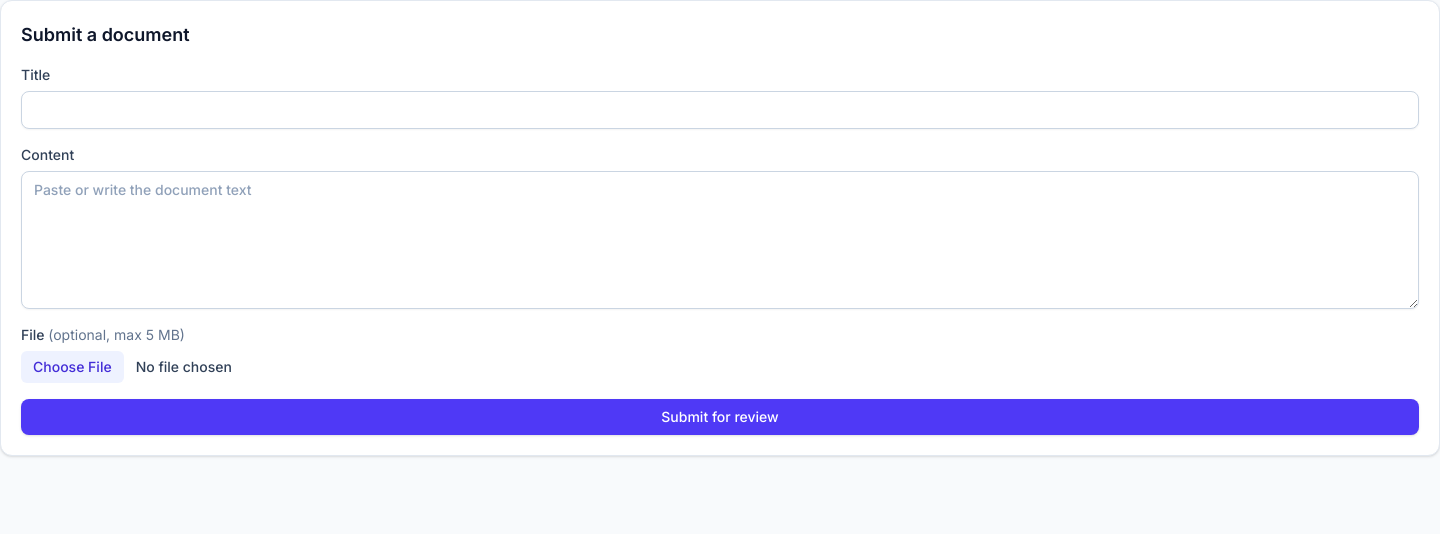
Scenario: SubmitForm › submits, clears the form and tells the page to refresh
The width and height of the screenshot is (1440, 534).
Type "Budget" into the field labelled "Title" at (720, 110), box [21, 91, 1419, 129]
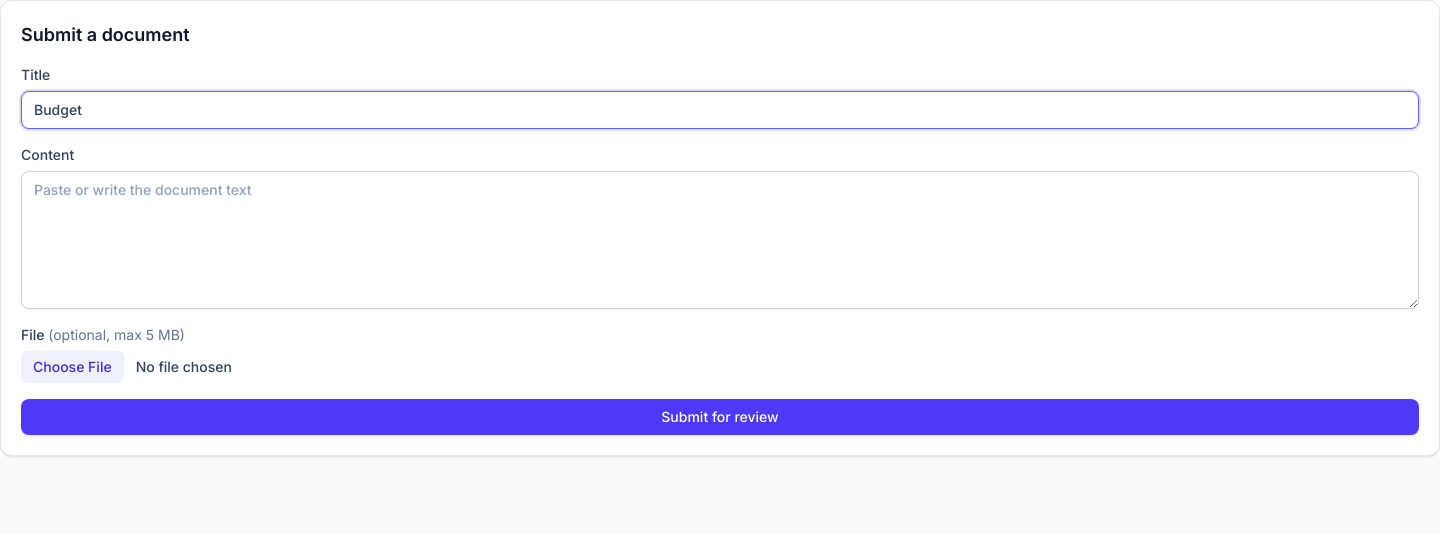
Type "Details" into the text box labelled "Content" at (720, 240), box [21, 171, 1419, 309]
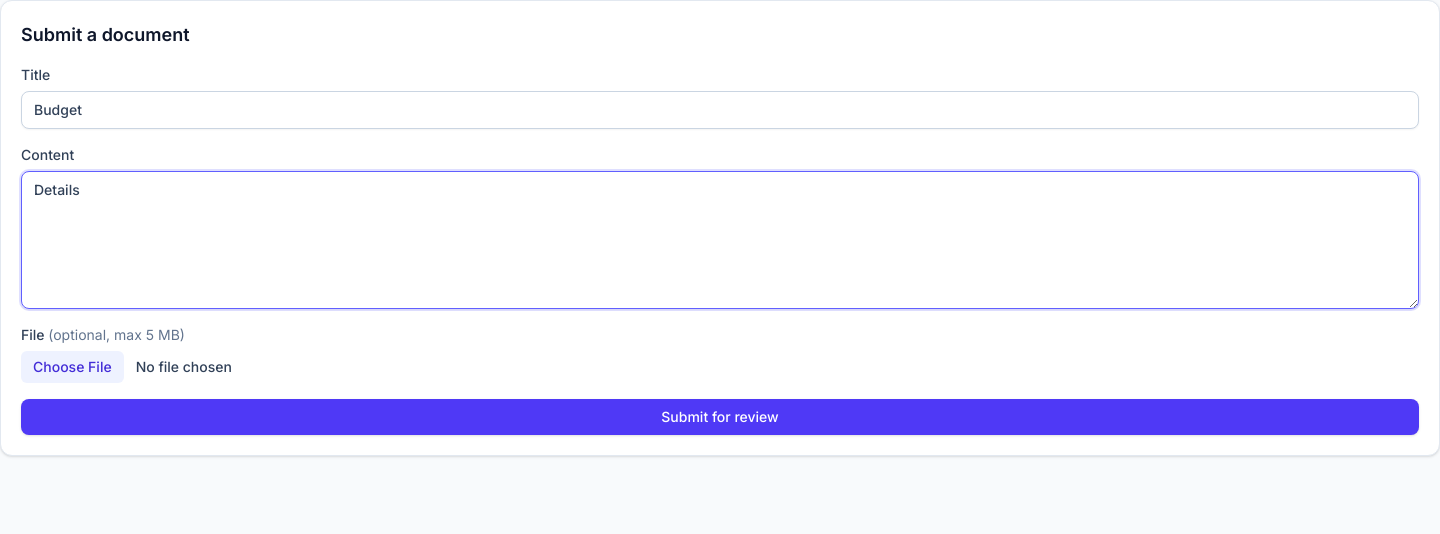
Click the button "Submit for review" at (720, 417), box [21, 399, 1419, 435]
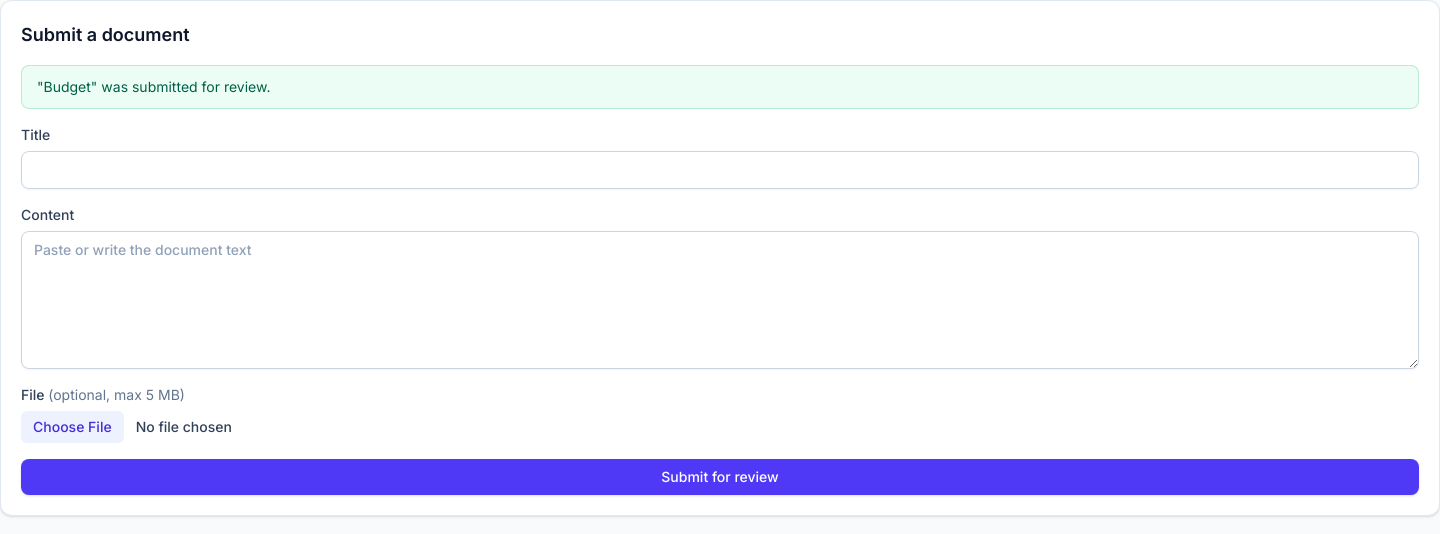
Check: the text "\"Budget\" was submitted for review." is shown, box [21, 65, 1419, 109]
Check: the field labelled "Title" is empty, box [21, 151, 1419, 189]
